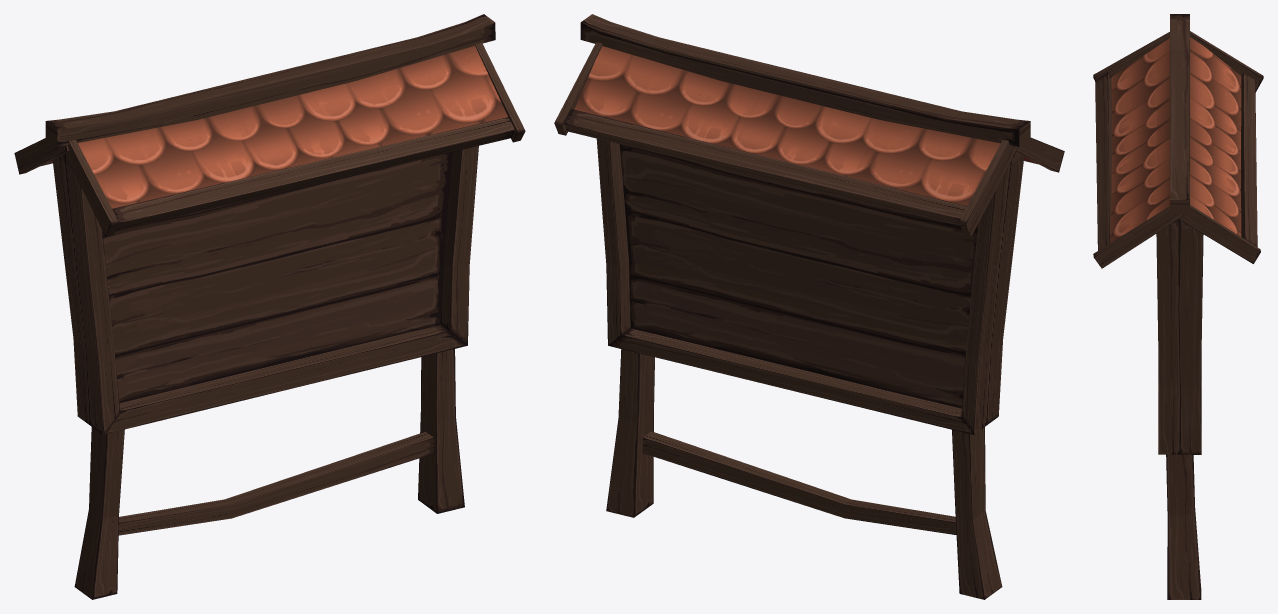
File: SM_PROP_bulletinboard_city_01.fbx
3 renders of one model, left to right at view 1: azimuth 30°, elevation 25°; view 2: azimuth 150°, elevation 25°; view 3: azimuth 270°, elevation 25°, orthographic. The views are drawn at different scales.
Visible parts, largest first — view 1: SM_PROP_bulletinboard_city_01; view 2: SM_PROP_bulletinboard_city_01; view 3: SM_PROP_bulletinboard_city_01.
Boxes of the visible parts, bbox=[...] form: SM_PROP_bulletinboard_city_01: bbox=[14, 14, 525, 599]; SM_PROP_bulletinboard_city_01: bbox=[554, 14, 1064, 599]; SM_PROP_bulletinboard_city_01: bbox=[1093, 14, 1263, 599].
Size of the model in its own units: 223 by 231 by 86.4.
